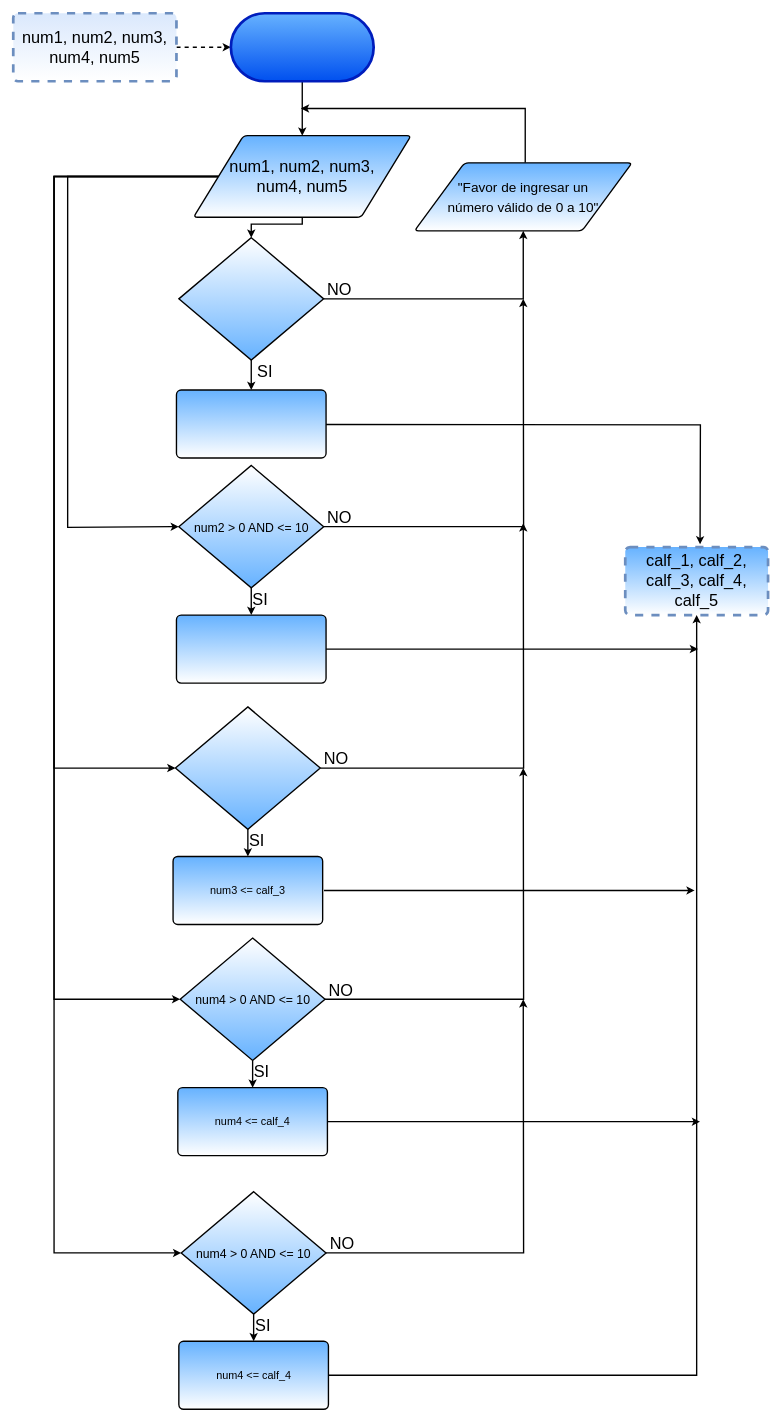
Some shapes in this 781 by 1421 pixel diagram are drawn without their labels. The shapes that lost their labels are listed below. From the top down, each one's box as (x1, y1, x2, y2) in pixels, then its label:
(229, 12, 375, 82): Inicio Validacion
(178, 237, 324, 360): num1 > 0 AND <= 10
(175, 389, 326, 458): num1 <= calf_1
(175, 614, 326, 683): num2 <= calf_2
(174, 706, 321, 830): num3 > 0 AND <= 10
